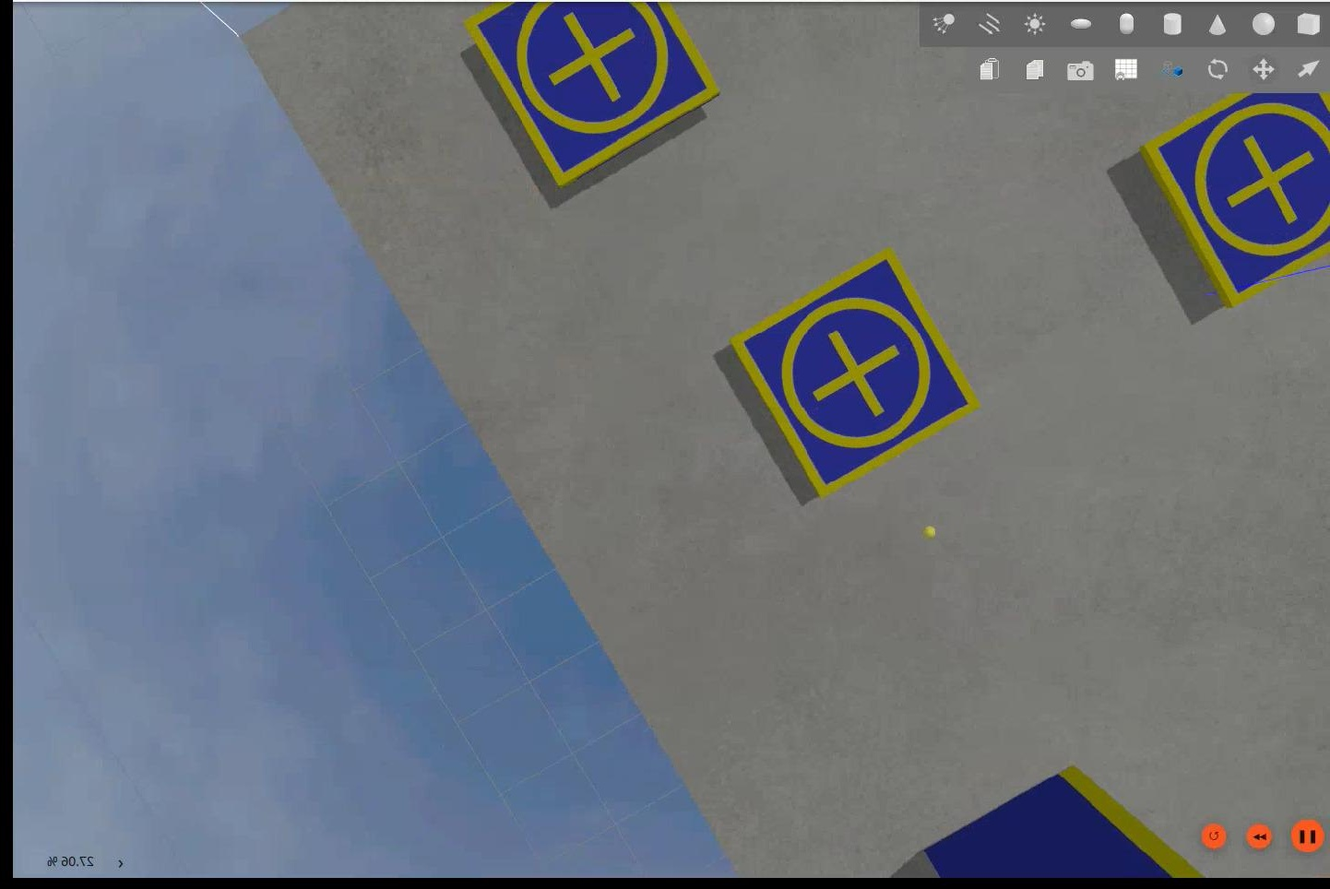small_base: (730, 247, 979, 501), (455, 1, 717, 200), (1146, 87, 1328, 312)
